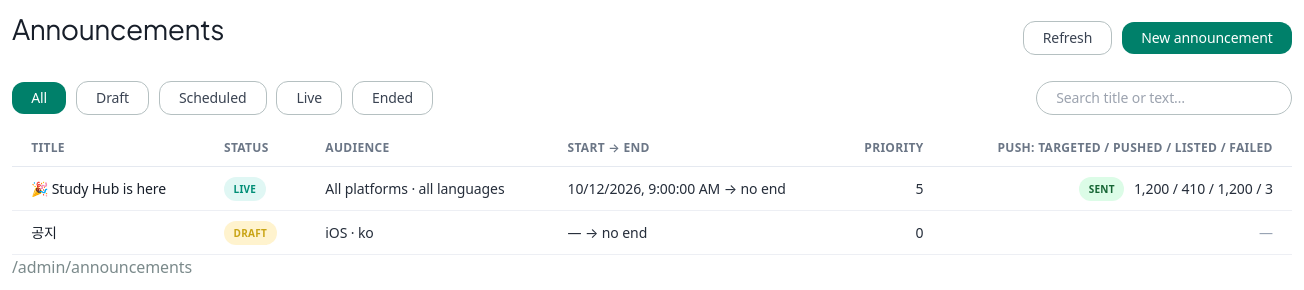
search filters loaded rows by any locale's title or body and lives in ?q=
The width and height of the screenshot is (1304, 290).
Type "study" into the search field labelled "Search title or text" at (1164, 98), box [1036, 81, 1292, 115]
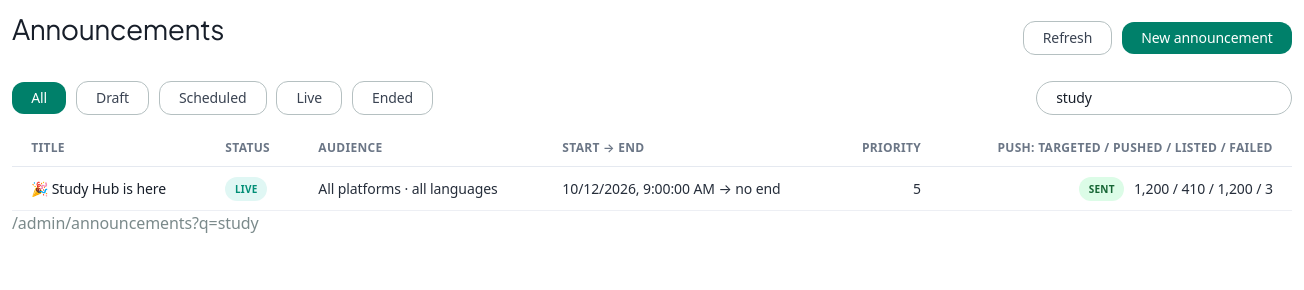
Check: the text "🎉 Study Hub is here" is shown, box [31, 179, 166, 198]
Check: the text with test id "location" reads "/admin/announcements?q=study", box [12, 212, 258, 234]
Check: the button "공지" is gone
